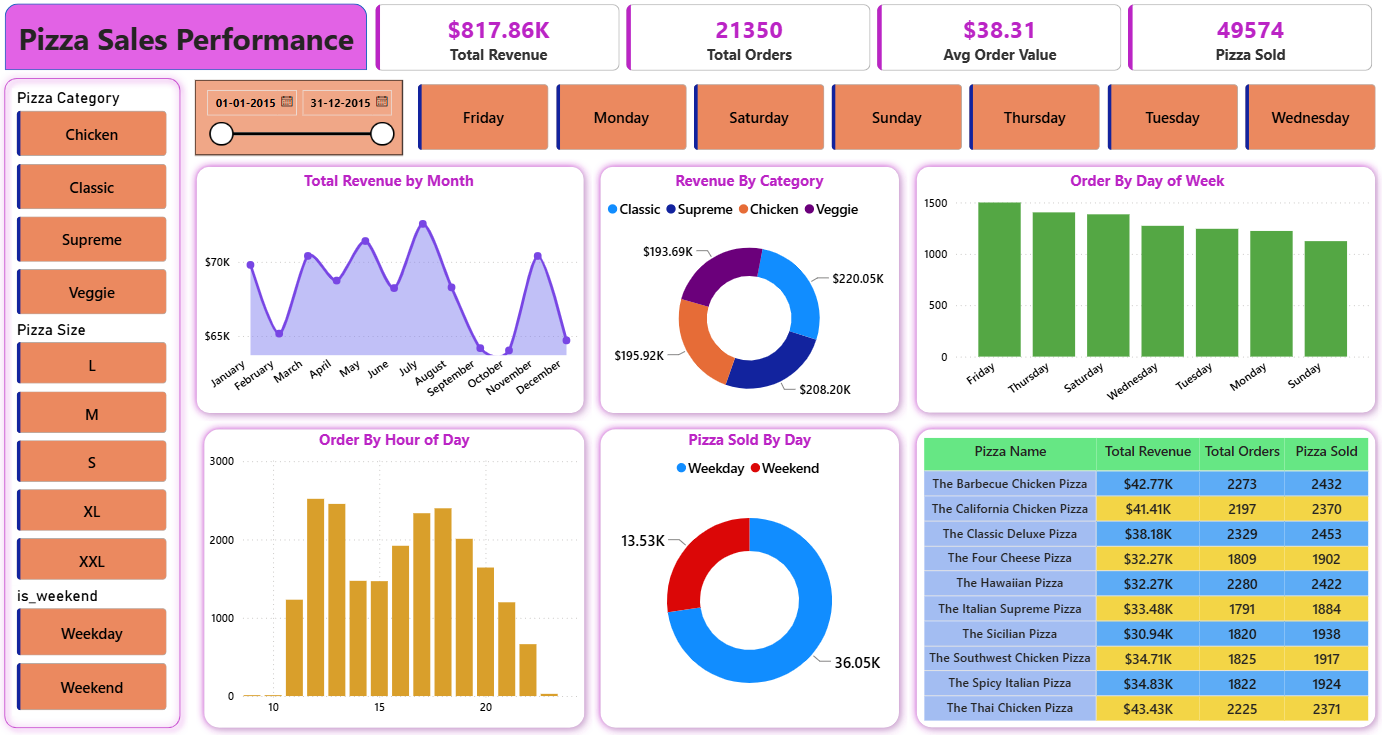

Layout of this report page (visuals, bound fields, positions):
{"tool":"powerbi","page":{"name":"Pizza Sales Performance","canvas":[1500,800],"ordinal":0},"visuals":[{"type":"shape","box":[986.1,459.7,513.9,340.3],"z":0},{"type":"shape","box":[644.9,175.4,340.6,284.1],"z":1000},{"type":"shape","box":[208.7,175.4,436.2,284.1],"z":2000},{"type":"shape","box":[986.5,175.7,513.5,283.8],"z":3000},{"type":"shape","box":[215.9,459.4,429,340.6],"z":4000},{"type":"cardVisual","fields":{"Data":["public pizza_sales.Total_Revenue","public pizza_sales.Total_Orders","public pizza_sales.Avg Order Value","public pizza_sales.Pizza Sold"]},"box":[401.4,0,1098.6,90.3],"z":5000},{"type":"donutChart","title":"Revenue By Category","fields":{"Y":["public pizza_sales.Total_Revenue"],"Category":["public pizza_sales.pizza_category"]},"box":[655.6,187.5,318.1,268.1],"z":6000},{"type":"shape","box":[10,8,391.7,72.2],"z":7000},{"type":"textbox","box":[9.5,18.9,391.9,60.8],"z":8000},{"type":"shape","box":[0,79.2,208.3,720.8],"z":9000},{"type":"slicer","fields":{"Values":["public pizza_sales.order_date"]},"box":[215.3,90.3,225,81.9],"z":10000},{"type":"clusteredColumnChart","title":"Order By Day of Week ","fields":{"Category":["public pizza_sales.day_of_week"],"Y":["public pizza_sales.Total_Orders"]},"box":[998.6,187.8,491.9,266.2],"z":11000},{"type":"columnChart","title":"Order By Hour of Day","fields":{"Category":["public pizza_sales.hours_of_day"],"Y":["public pizza_sales.Total_Orders"]},"box":[225,468.1,409.7,319.4],"z":12000},{"type":"pivotTable","title":"Job Satisfaction Rating","fields":{"Values":["public pizza_sales.Total_Revenue","public pizza_sales.Total_Orders","public pizza_sales.Pizza Sold"],"Rows":["public pizza_sales.pizza_name"]},"box":[998.6,473.6,501.4,326.4],"z":13000},{"type":"shape","box":[644.9,459.4,340.6,340.6],"z":14000},{"type":"donutChart","title":"Pizza Sold By Day","fields":{"Category":["public pizza_sales.is_weekend"],"Y":["public pizza_sales.Pizza Sold"]},"box":[655.1,468.1,318.8,318.8],"z":15000},{"type":"advancedSlicerVisual","fields":{"Values":["public pizza_sales.pizza_category"]},"box":[18.1,100,172.2,250],"z":16000},{"type":"advancedSlicerVisual","fields":{"Values":["public pizza_sales.pizza_size"]},"box":[18.1,350,172.2,287.5],"z":17000},{"type":"advancedSlicerVisual","fields":{"Values":["public pizza_sales.is_weekend"]},"box":[18.1,637.5,172.2,140.3],"z":18000},{"type":"advancedSlicerVisual","fields":{"Values":["public pizza_sales.day_of_week"]},"box":[451.4,90.3,1048.6,81.9],"z":19000},{"type":"lineChart","title":"Total Revenue by Month","fields":{"Category":["public pizza_sales.order_date.Variation.Date Hierarchy.Month"],"Y":["public pizza_sales.Total_Revenue"]},"box":[215.3,187.5,419.4,266.7],"z":20000}]}

Visuals, with their boxes in screenshot pixels (x1, y1, x2, y2), scaled from the page's 1500x800 canvas onto the 1382x735 screenshot:
shape: l=909, t=422, r=1381, b=734
shape: l=594, t=161, r=908, b=422
shape: l=192, t=161, r=594, b=422
shape: l=909, t=161, r=1381, b=422
shape: l=199, t=422, r=594, b=734
cardVisual - public pizza_sales.Total_Revenue x public pizza_sales.Total_Orders: l=370, t=0, r=1381, b=83
"Revenue By Category" donutChart: l=604, t=172, r=897, b=419
shape: l=9, t=7, r=370, b=74
textbox: l=9, t=17, r=370, b=73
shape: l=0, t=73, r=192, b=734
slicer - public pizza_sales.order_date: l=198, t=83, r=406, b=158
"Order By Day of Week " clusteredColumnChart: l=920, t=173, r=1373, b=417
"Order By Hour of Day" columnChart: l=207, t=430, r=585, b=724
"Job Satisfaction Rating" pivotTable: l=920, t=435, r=1381, b=734
shape: l=594, t=422, r=908, b=734
"Pizza Sold By Day" donutChart: l=604, t=430, r=897, b=723
advancedSlicerVisual - public pizza_sales.pizza_category: l=17, t=92, r=175, b=322
advancedSlicerVisual - public pizza_sales.pizza_size: l=17, t=322, r=175, b=586
advancedSlicerVisual - public pizza_sales.is_weekend: l=17, t=586, r=175, b=715
advancedSlicerVisual - public pizza_sales.day_of_week: l=416, t=83, r=1381, b=158
"Total Revenue by Month" lineChart: l=198, t=172, r=585, b=417
